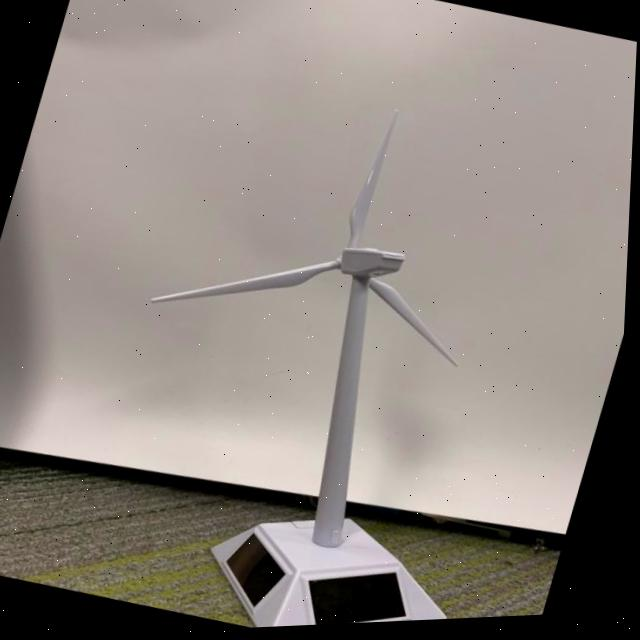solid-blade: (153, 261, 343, 303), (372, 281, 461, 370), (350, 113, 400, 250)
